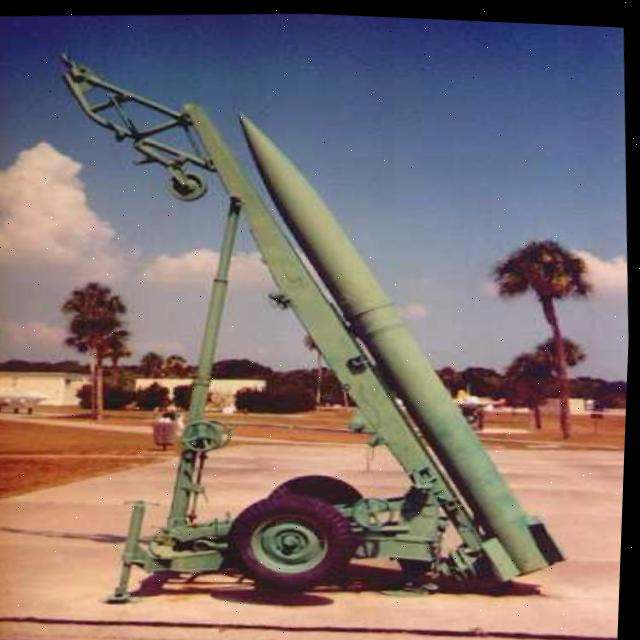missile: (221, 87, 573, 585)
